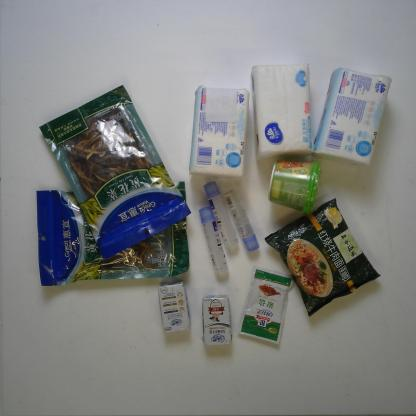Dried Food: (37, 83, 194, 263), (34, 180, 190, 288)
Instant Drink: (264, 157, 324, 216)
Instant Noodles: (263, 196, 383, 318)
Milk: (156, 277, 193, 335), (200, 292, 234, 348)
Seasoner: (237, 264, 295, 347)
Stationery: (201, 180, 241, 252), (221, 185, 261, 254), (196, 204, 232, 276)
Tissue: (311, 66, 393, 169), (249, 61, 317, 163), (187, 84, 250, 181)
